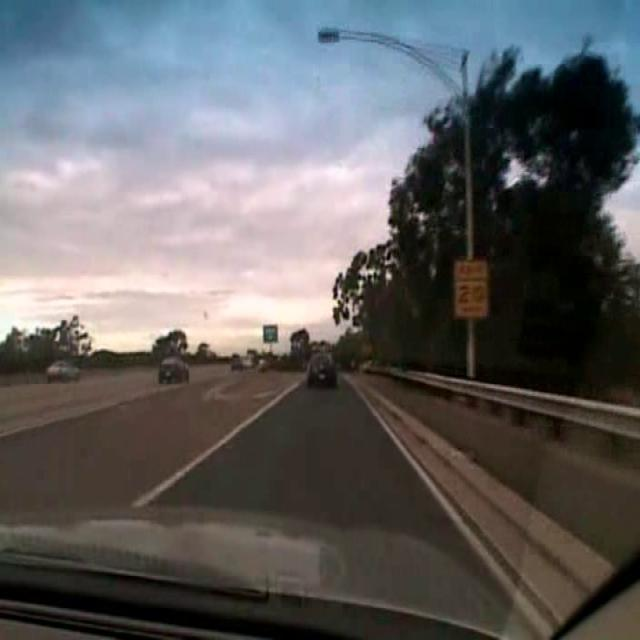speedLimit20: (454, 257, 489, 319)
